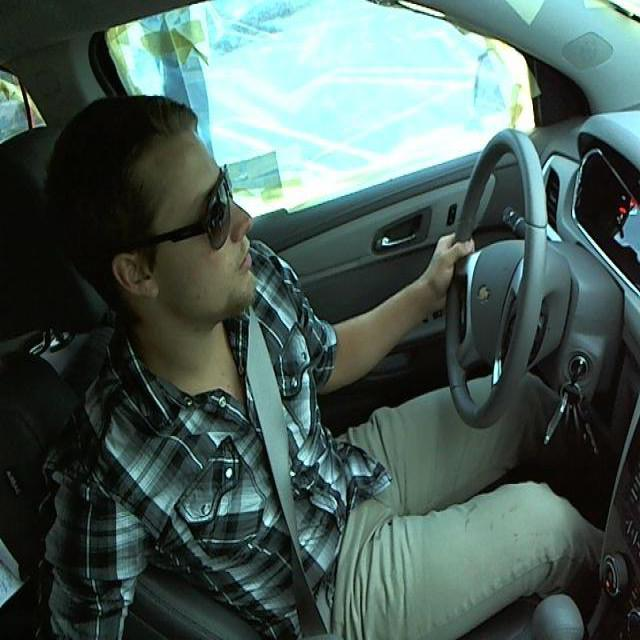seatbelt: (233, 328, 360, 639)
